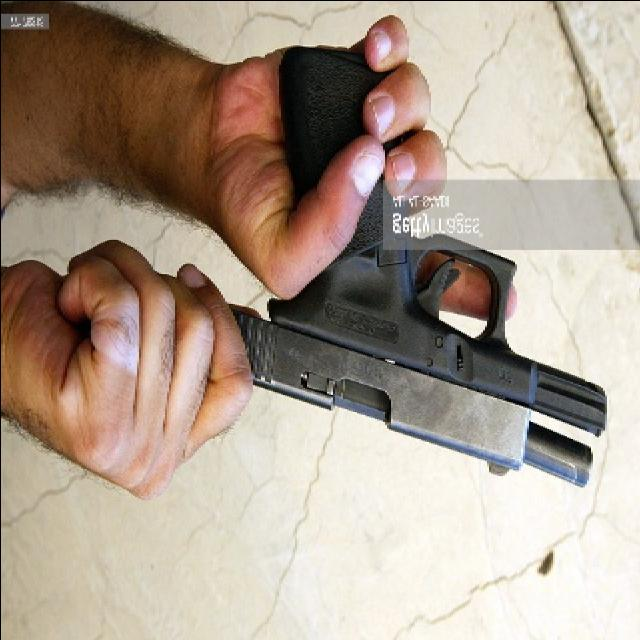handgun: (235, 45, 615, 492)
